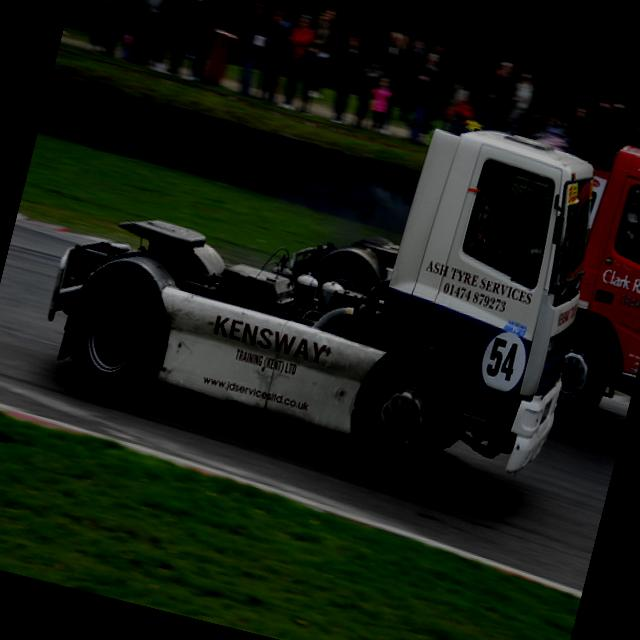Vehicle: (26, 32, 618, 514), (536, 130, 640, 438)
